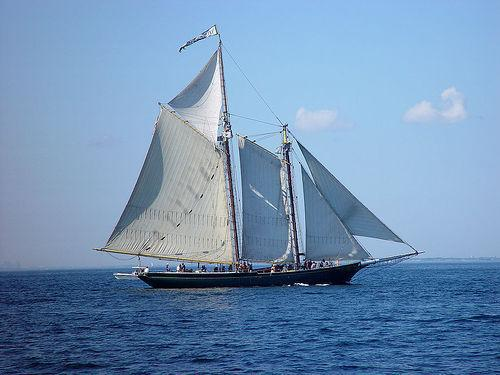Ship: (92, 23, 424, 289)
